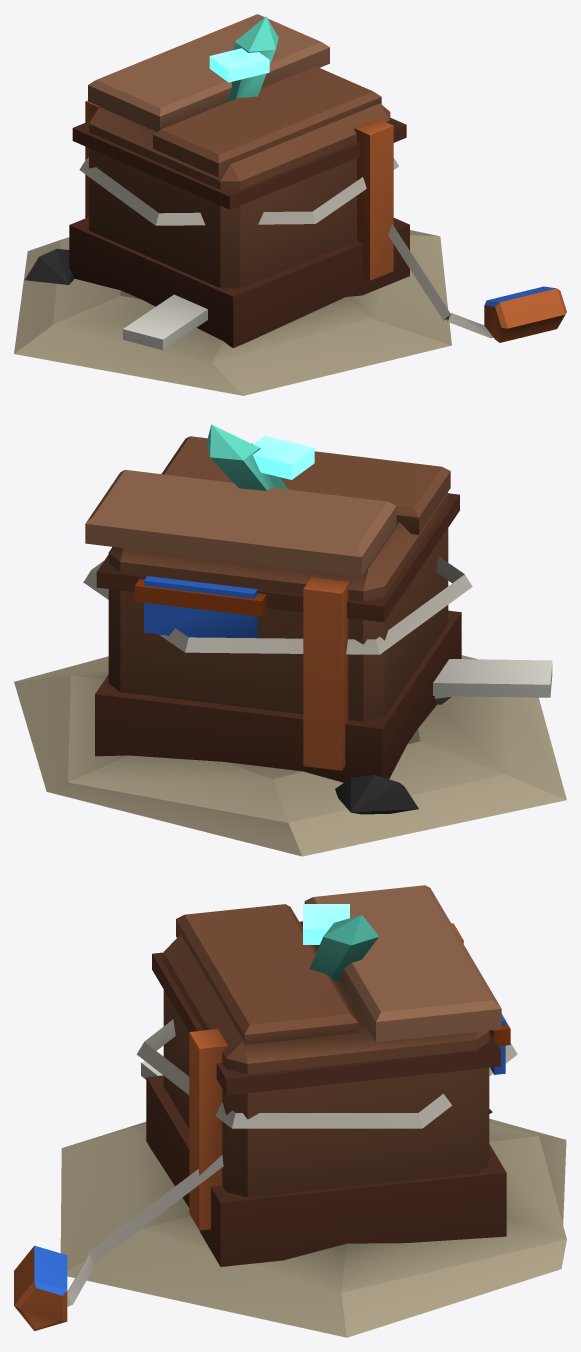
The model's file is n_crate.glb.
3 views of the same model, one above another, from view 1: azimuth 30°, elevation 25°; view 2: azimuth 150°, elevation 25°; view 3: azimuth 270°, elevation 25° (orthographic). The views are drawn at different scales.
Parts seen in each view (by area): view 1: body; view 2: body; view 3: body.
Boxes of the visible parts, <box> form: body: <box>14,14,566,395</box>; body: <box>14,424,566,856</box>; body: <box>14,885,566,1337</box>.
Size of the model in its own units: 1.08 by 0.6063 by 0.9379.
